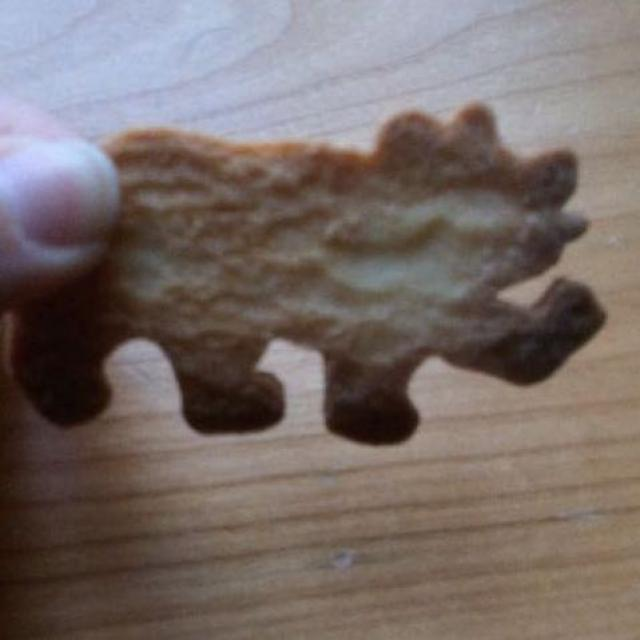biscuits: (22, 106, 616, 466), (54, 104, 591, 426)
